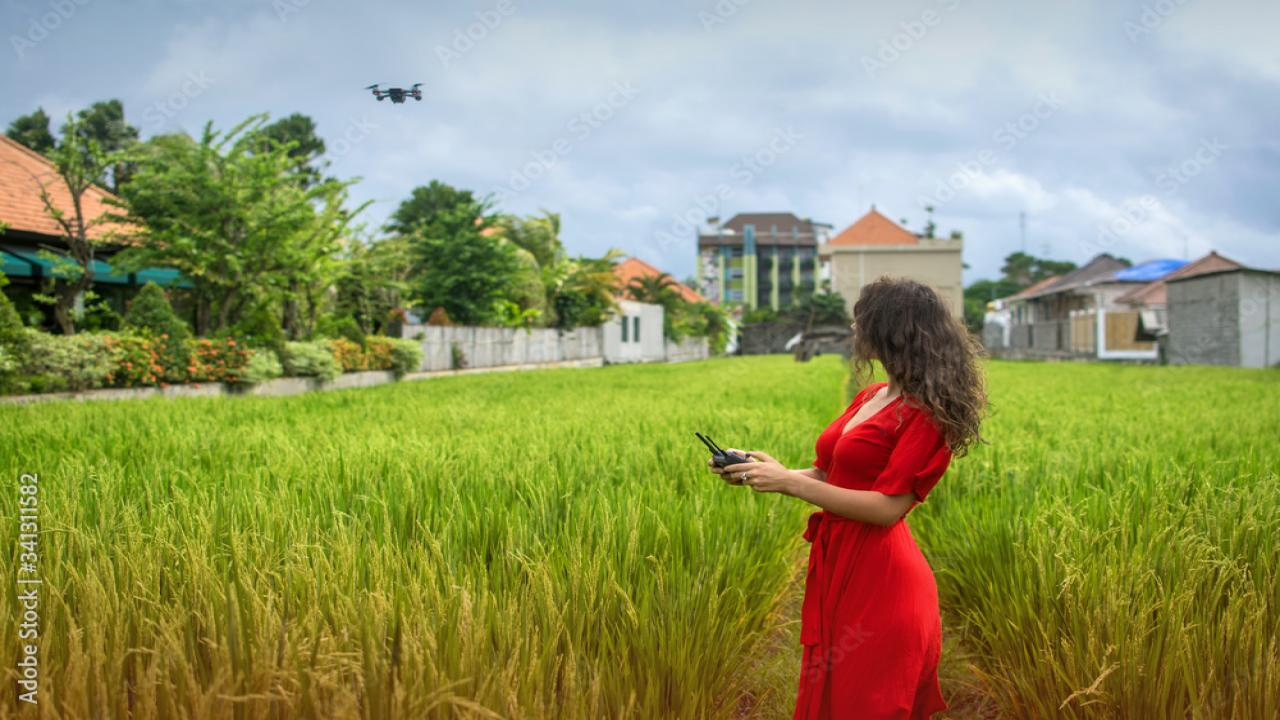Drone: (359, 70, 436, 110)
